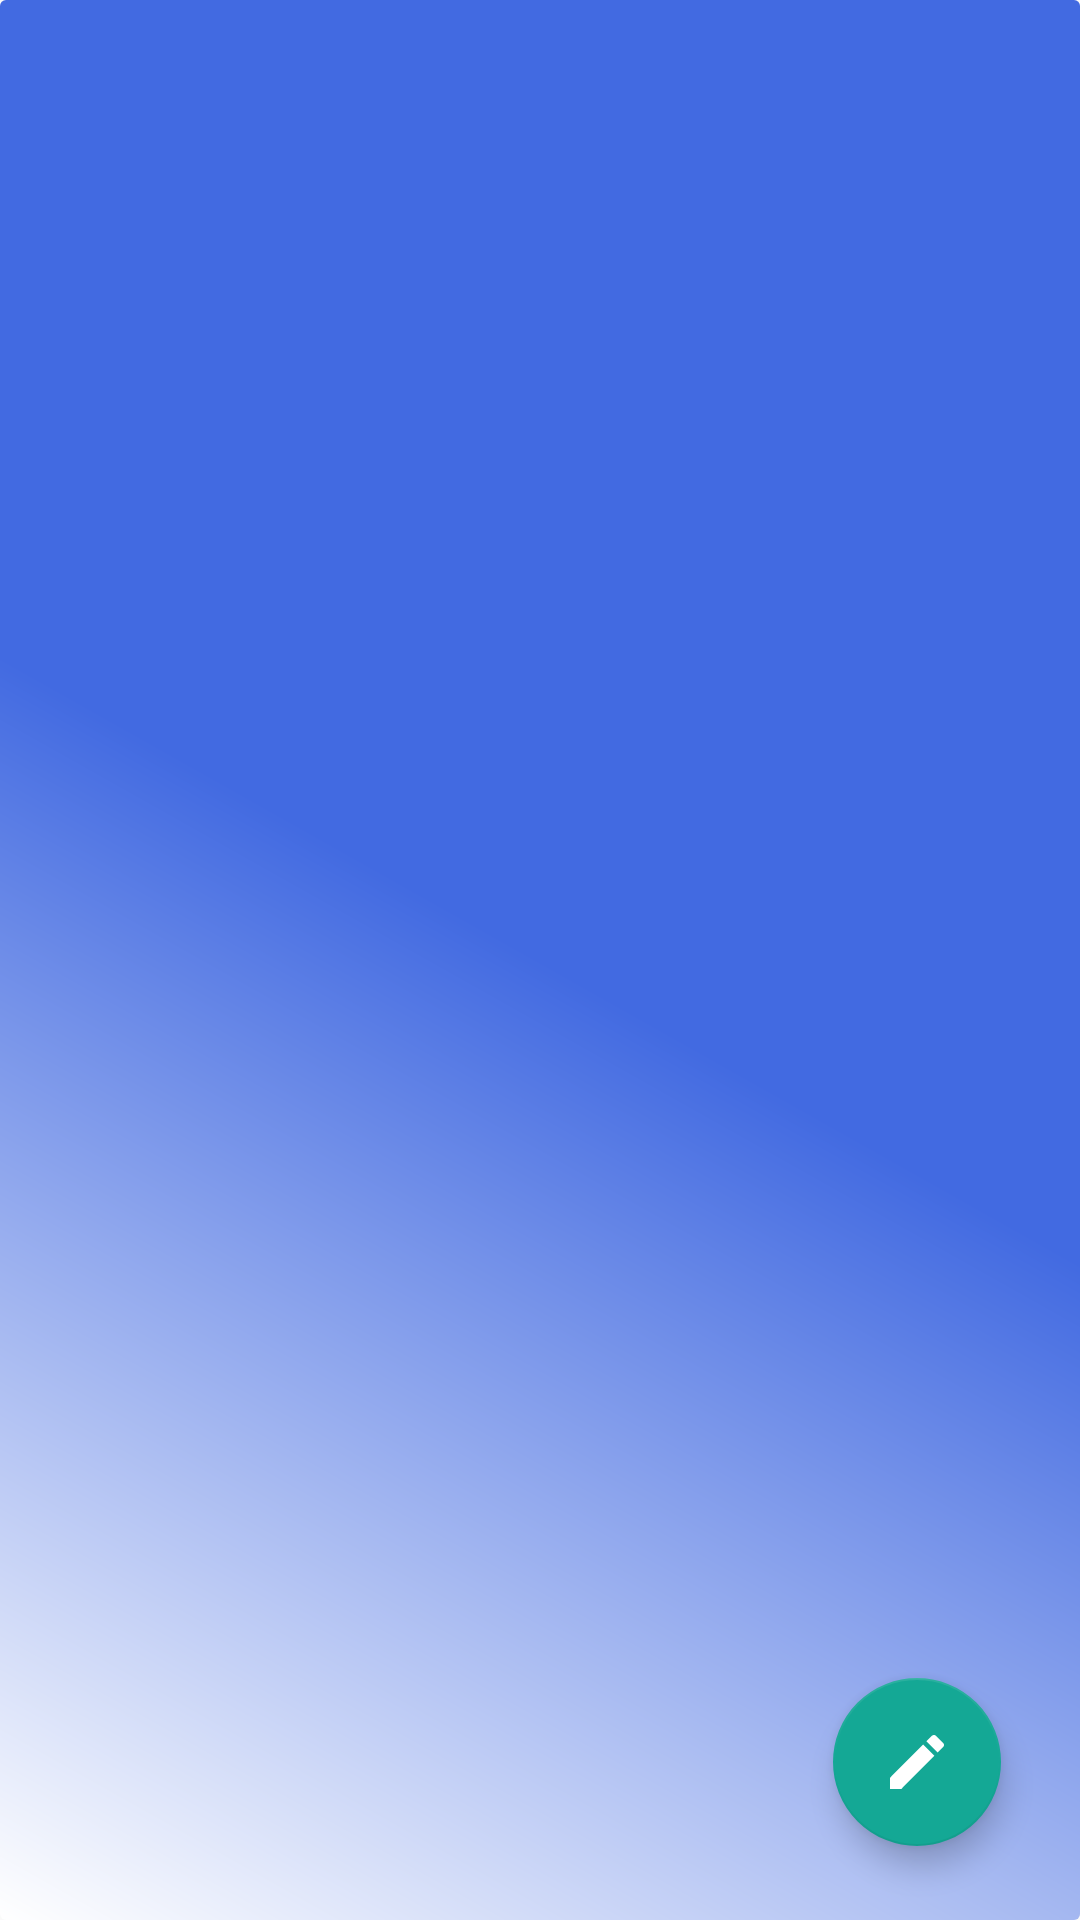

Icons on this 1080×1920 Android screen, each with the point to tap as [x,y]:
create: [917,1762]
